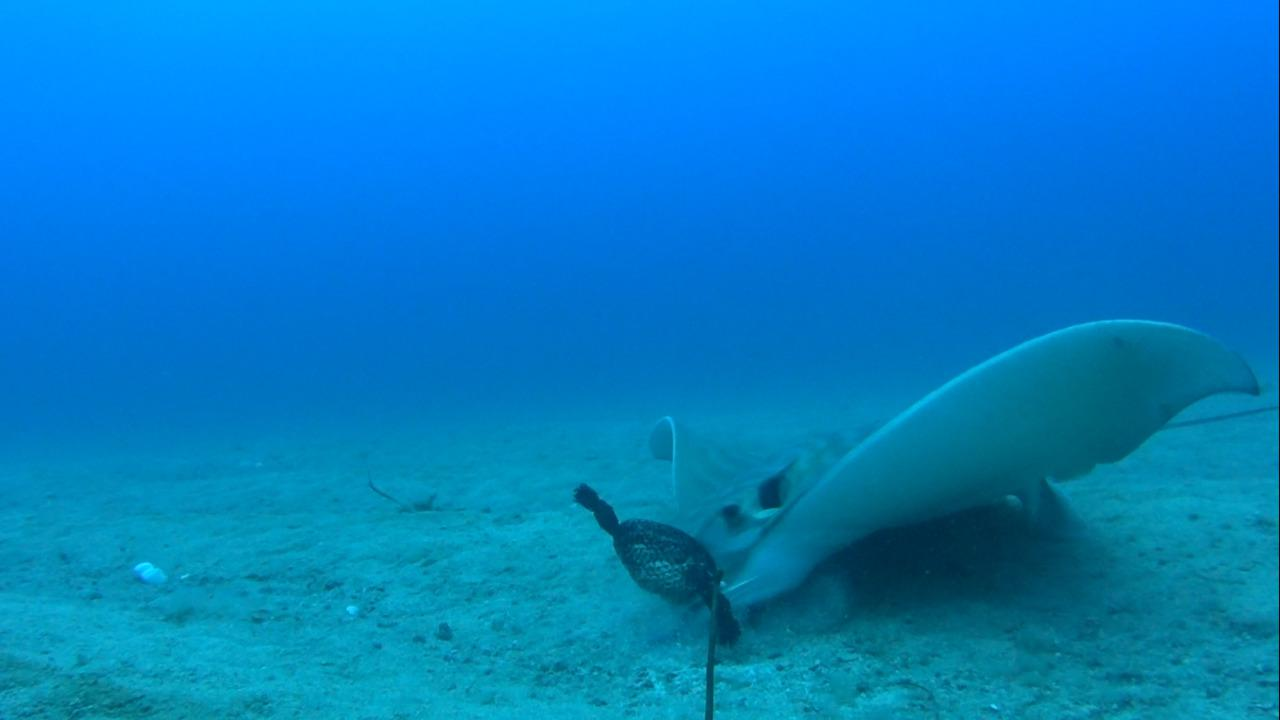myliobatis: (640, 312, 1279, 633)
